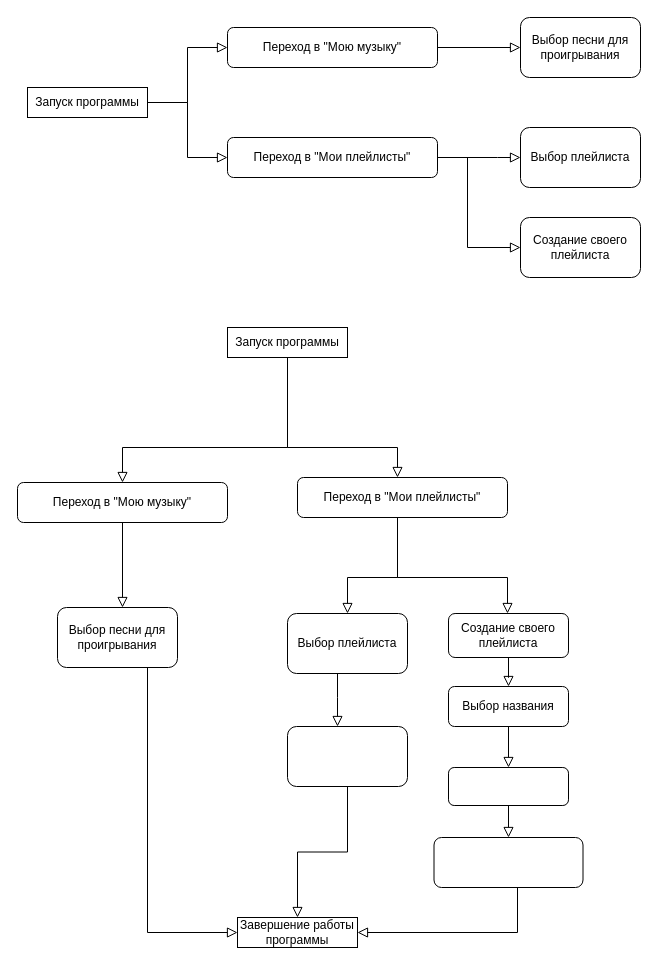
Image size: 658x965. Some labels were removed from this diagram. Each missing label, with the centre of its shape:
Выбор песен: [508,786]
Выбор песни из плейлиста: [347,756]
Добавление нового плейлиста в имеющиеся плейлисты: [508,862]
